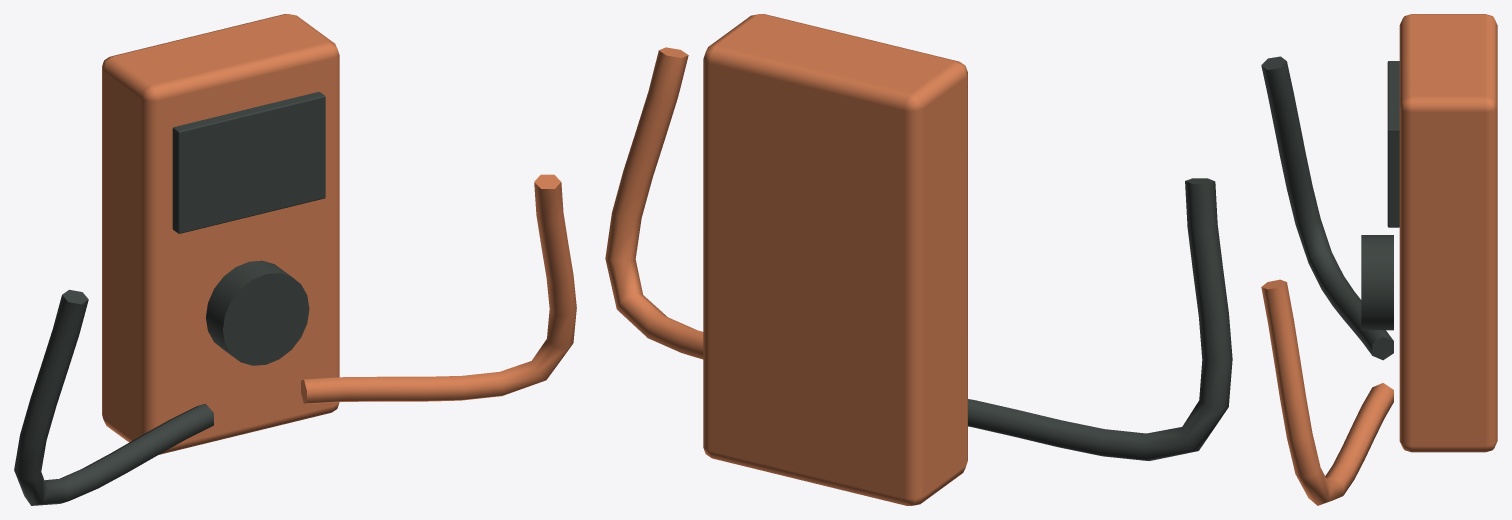
Rendered from salvage-and-repair-workshop-multimeter-d50fa9f4__25467.glb.
3 renders of one model, left to right at view 1: azimuth 30°, elevation 25°; view 2: azimuth 150°, elevation 25°; view 3: azimuth 270°, elevation 25°, orthographic. The views are drawn at different scales.
Parts seen in each view (by area): view 1: multimeter; view 2: multimeter; view 3: multimeter.
Boxes of the visible parts, left/top/right/bottom form: multimeter: left=14, top=14, right=576, bottom=505; multimeter: left=605, top=14, right=1232, bottom=505; multimeter: left=1261, top=14, right=1497, bottom=505.
Size of the model in its own units: 0.2811 by 0.18 by 0.1084.
